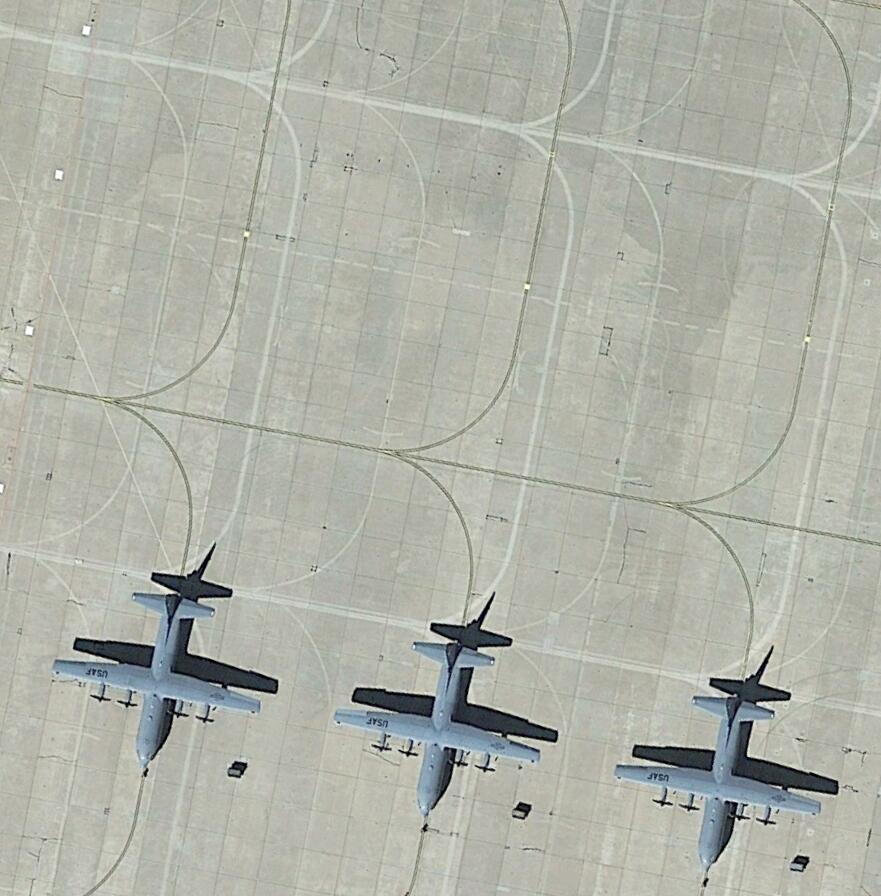A2: (607, 685, 829, 877), (47, 580, 269, 770), (333, 631, 548, 819)
